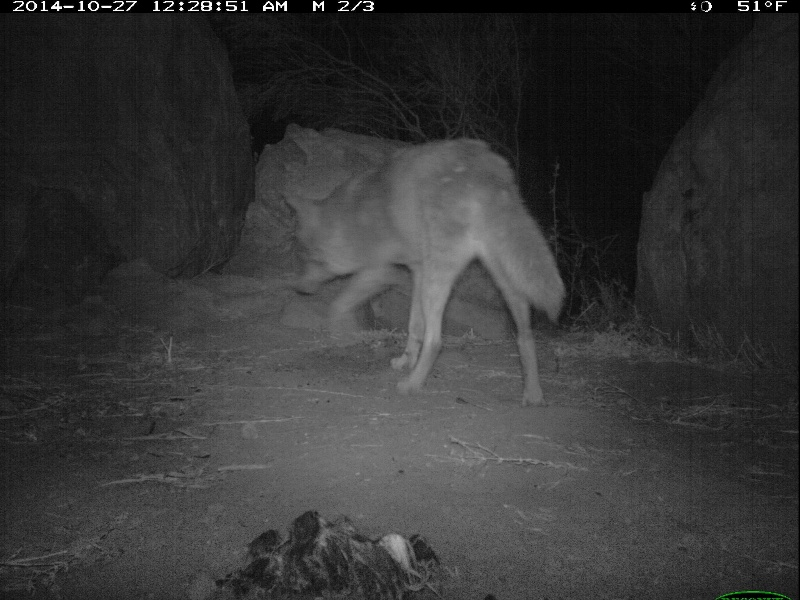coyote: (279, 138, 571, 415)
